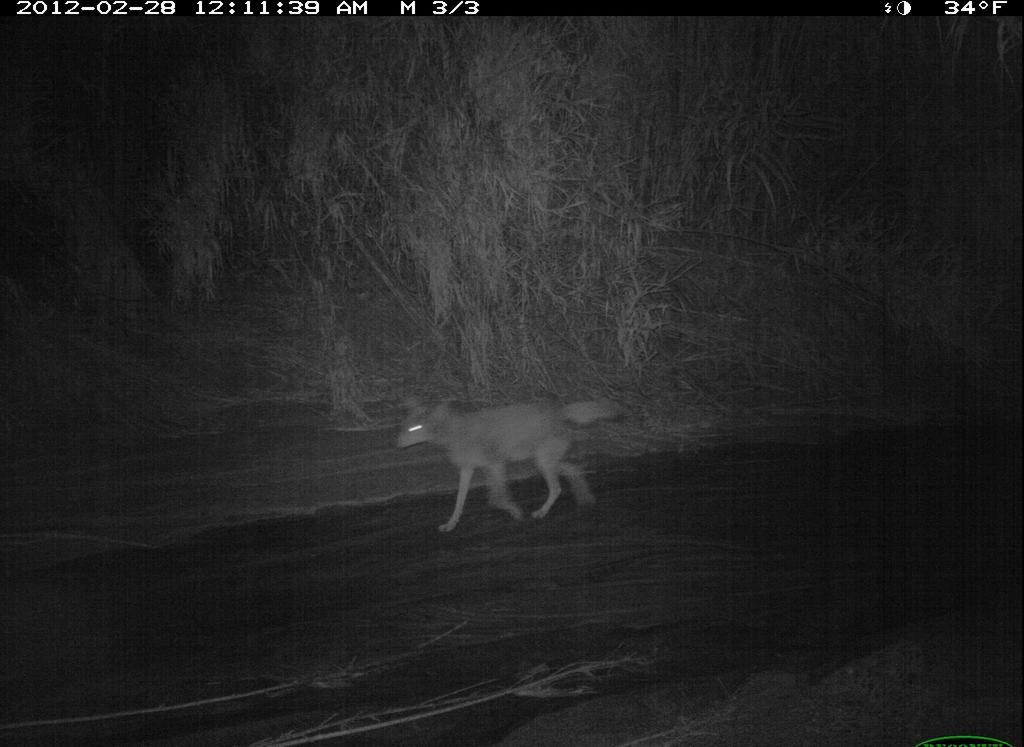coyote: (391, 390, 634, 536)
